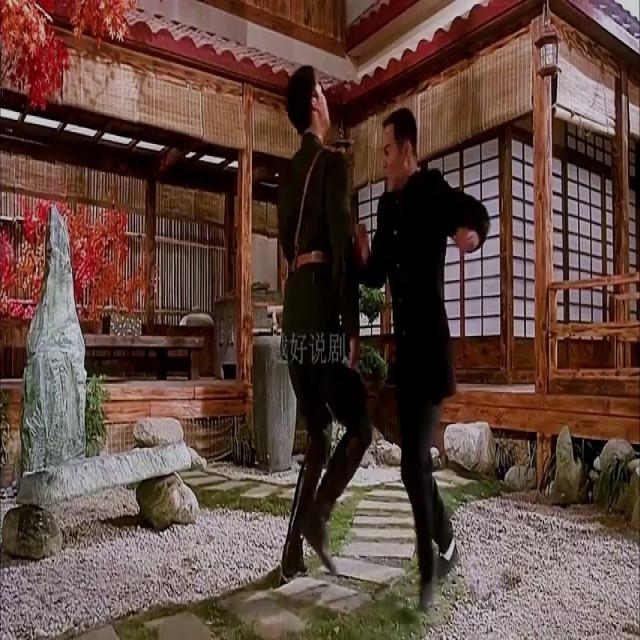fight: (276, 57, 490, 625)
